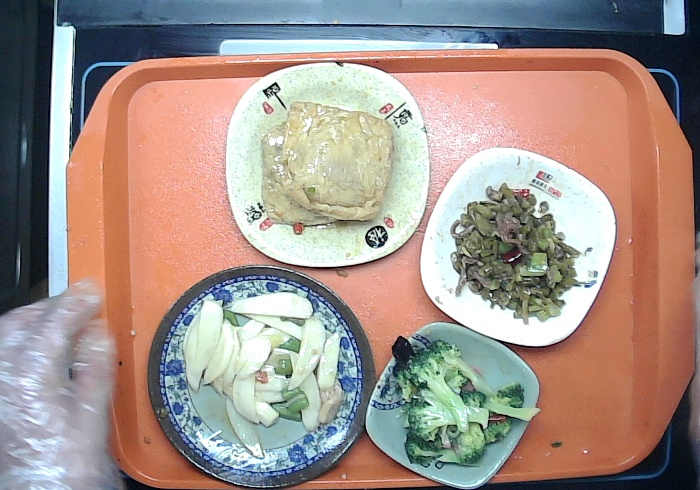NLDX-Bai_Se_Xiao_Fang_Die: (416, 144, 621, 351)
NLDX-Fu_Zi_Fang_Die: (220, 58, 434, 273)
NLDX-Qing_Hua_Xiao_Fang_Die: (361, 320, 544, 490)
NLDX-Qing_Hua_Yuan_Die: (143, 260, 384, 490)
